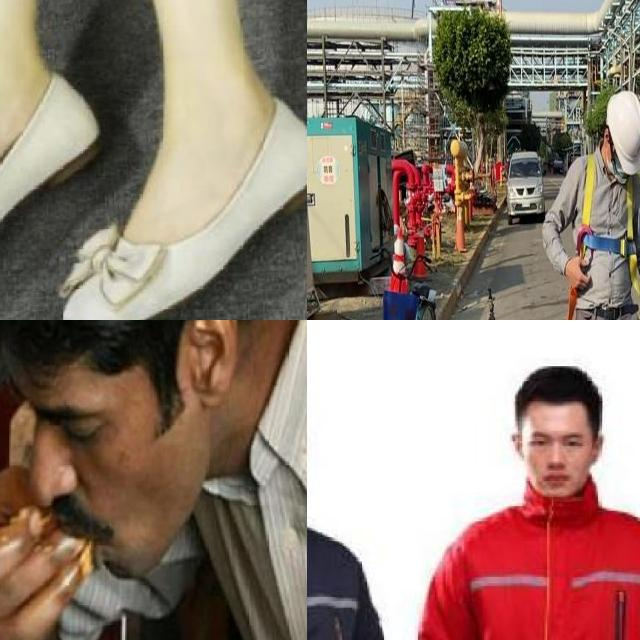Harness: (577, 155, 640, 294)
No_Ear-Protection: (188, 320, 235, 412)
No_Glasses: (32, 389, 144, 461)
Sandals: (50, 33, 307, 320), (0, 36, 114, 307)
face_nomask: (31, 342, 193, 554), (520, 406, 588, 496)
hand_noglove: (0, 468, 72, 640)
head_nohelmet: (495, 364, 602, 424)
person: (0, 320, 307, 640), (404, 360, 640, 640), (307, 358, 401, 640)
